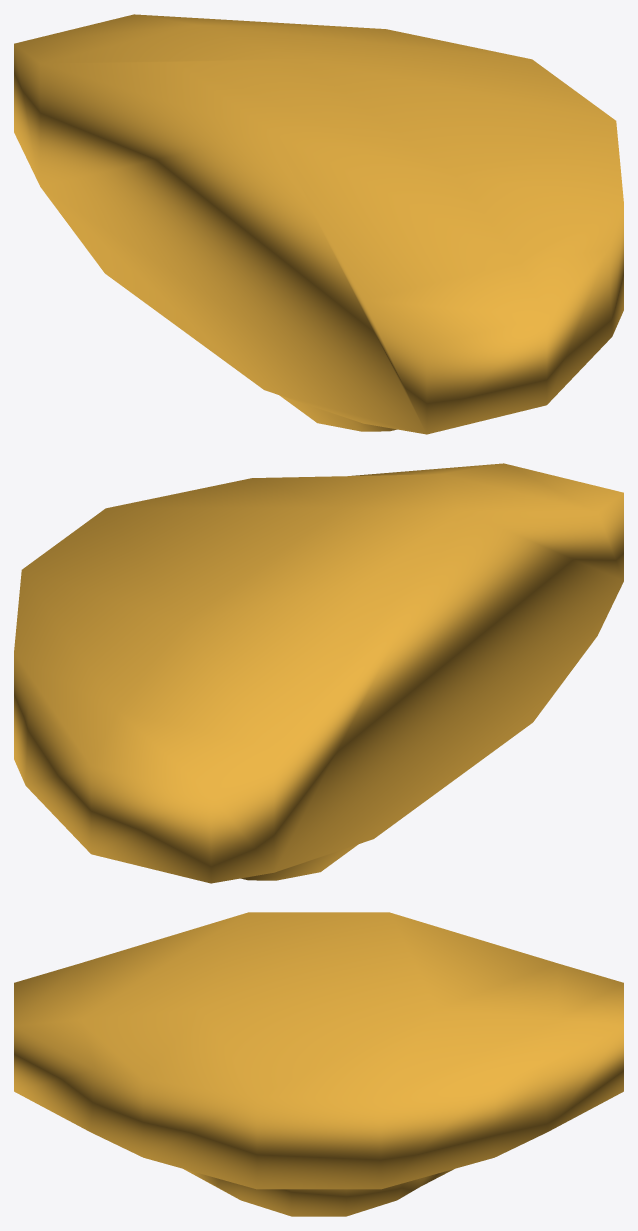
Rendered from EddieBeak.glb.
3 views of the same model, one above another, from view 1: azimuth 30°, elevation 25°; view 2: azimuth 150°, elevation 25°; view 3: azimuth 270°, elevation 25° (orthographic). The views are drawn at different scales.
Visible parts, largest first — view 1: EddieBeak; view 2: EddieBeak; view 3: EddieBeak.
Boxes of the visible parts, bbox=[...] form: EddieBeak: bbox=[14, 14, 623, 434]; EddieBeak: bbox=[14, 463, 623, 883]; EddieBeak: bbox=[14, 912, 623, 1216].
Bounding box in the file's own units: 1.23 × 0.9437 × 2.25.
